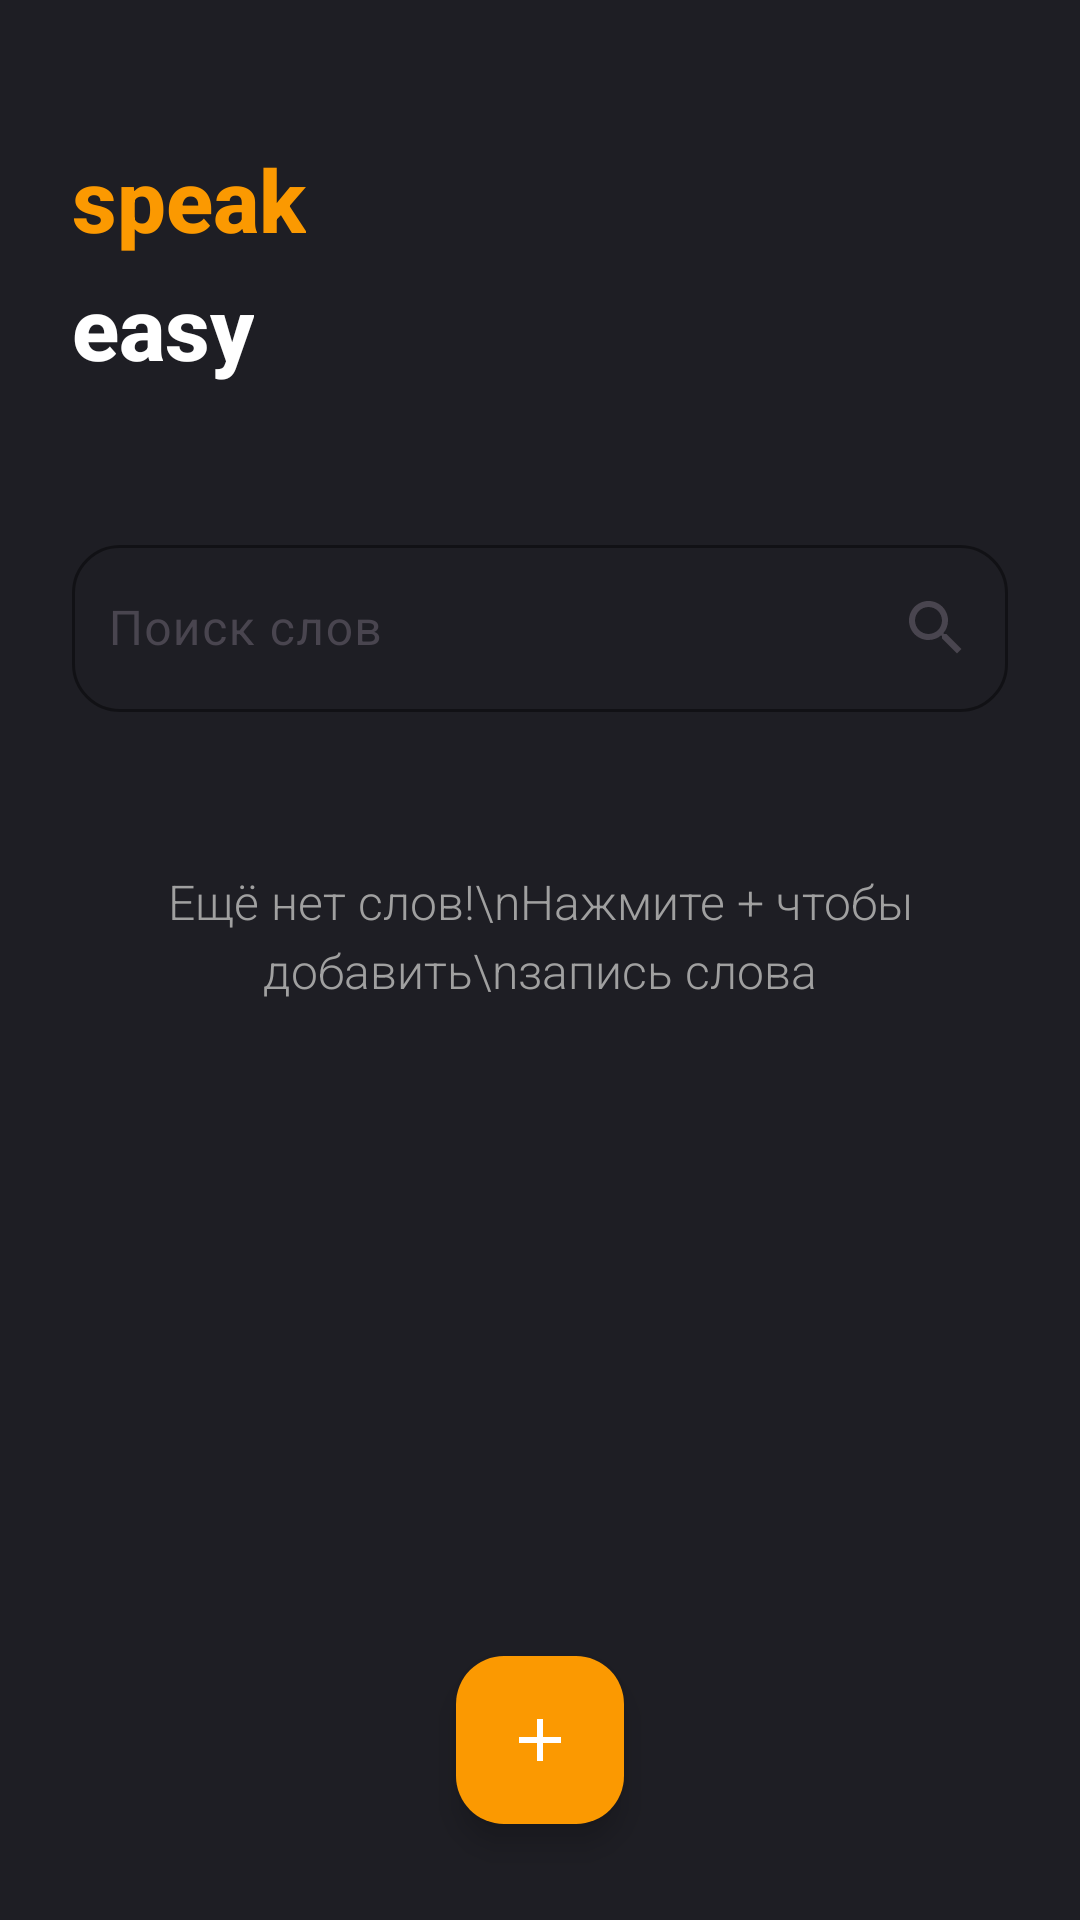

Screen size 1080x1920. Icon name, then its center in pixels as (x=x, y=y):
Добавить слово: (x=540, y=1740)
